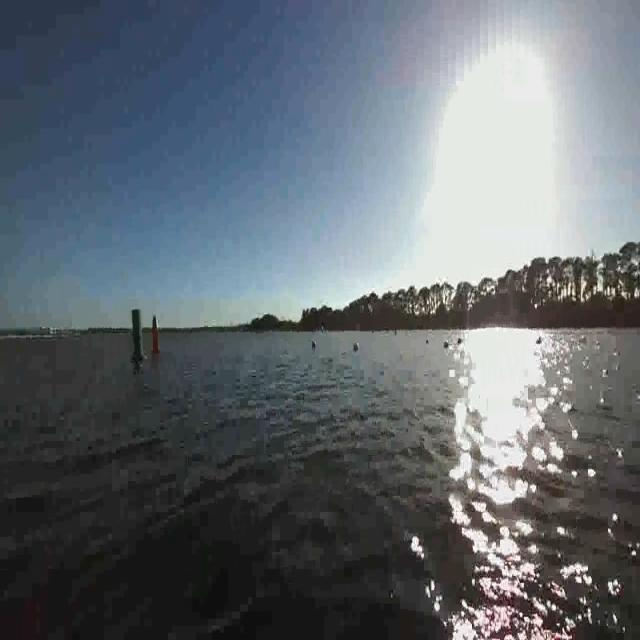green-column-buoy: (128, 305, 146, 363)
red-column-buoy: (149, 316, 161, 357)
